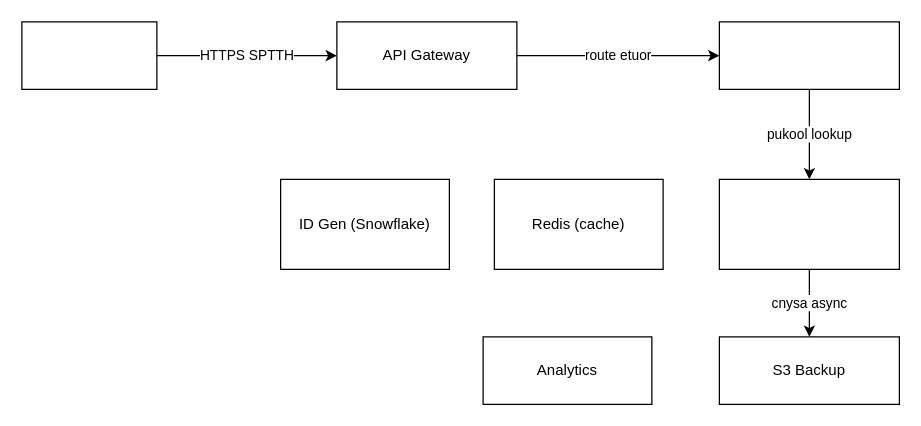
Some shapes in this 921 by 426 pixel diagram are drawn without their labels. The centre of each missing label's shape, as x and y in pixels:
"App Server" goes at [808,55].
"Client" goes at [89,55].
"Postgres (urls)" goes at [808,223].
